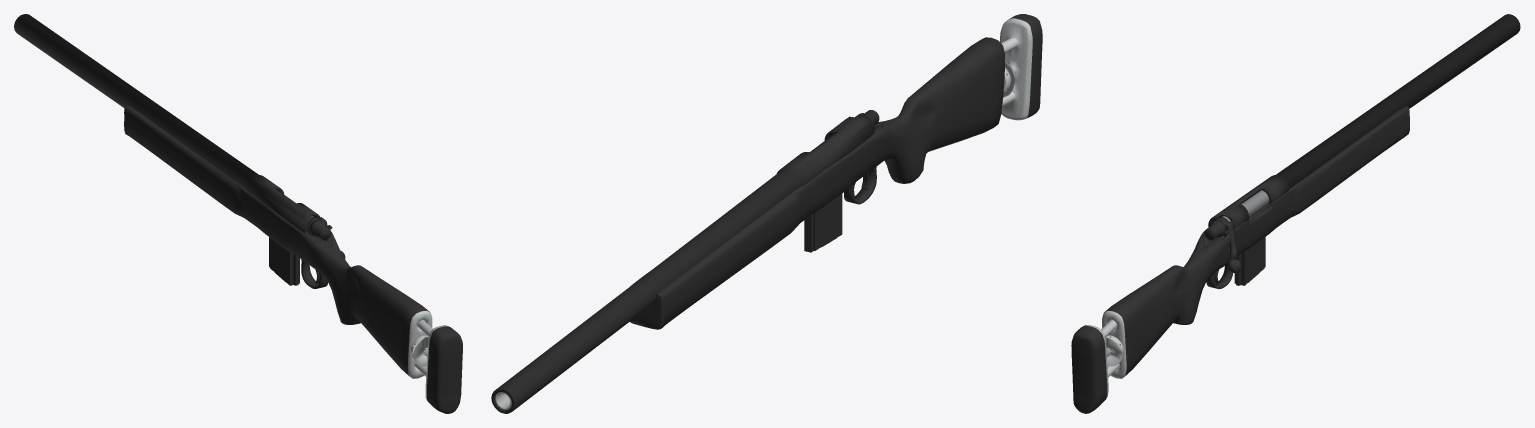
The model's file is bolt_308.glb.
3 renders of one model, left to right at view 1: azimuth 30°, elevation 25°; view 2: azimuth 150°, elevation 25°; view 3: azimuth 330°, elevation 25°, orthographic. The views are drawn at different scales.
Parts seen in each view (by area): view 1: body, mag, bolt; view 2: body, mag; view 3: body, mag, bolt.
Boxes of the visible parts, x1,y1,x2,y2 form: body: (14, 14, 462, 413); mag: (269, 237, 299, 285); bolt: (307, 216, 345, 258); body: (491, 14, 1042, 413); mag: (804, 194, 842, 252); body: (1071, 14, 1520, 413); mag: (1234, 237, 1265, 285); bolt: (1204, 217, 1241, 273).
Bounding box in the file's own units: 0.0584 × 0.1377 × 1.09.
12 materials, 12 textured.
